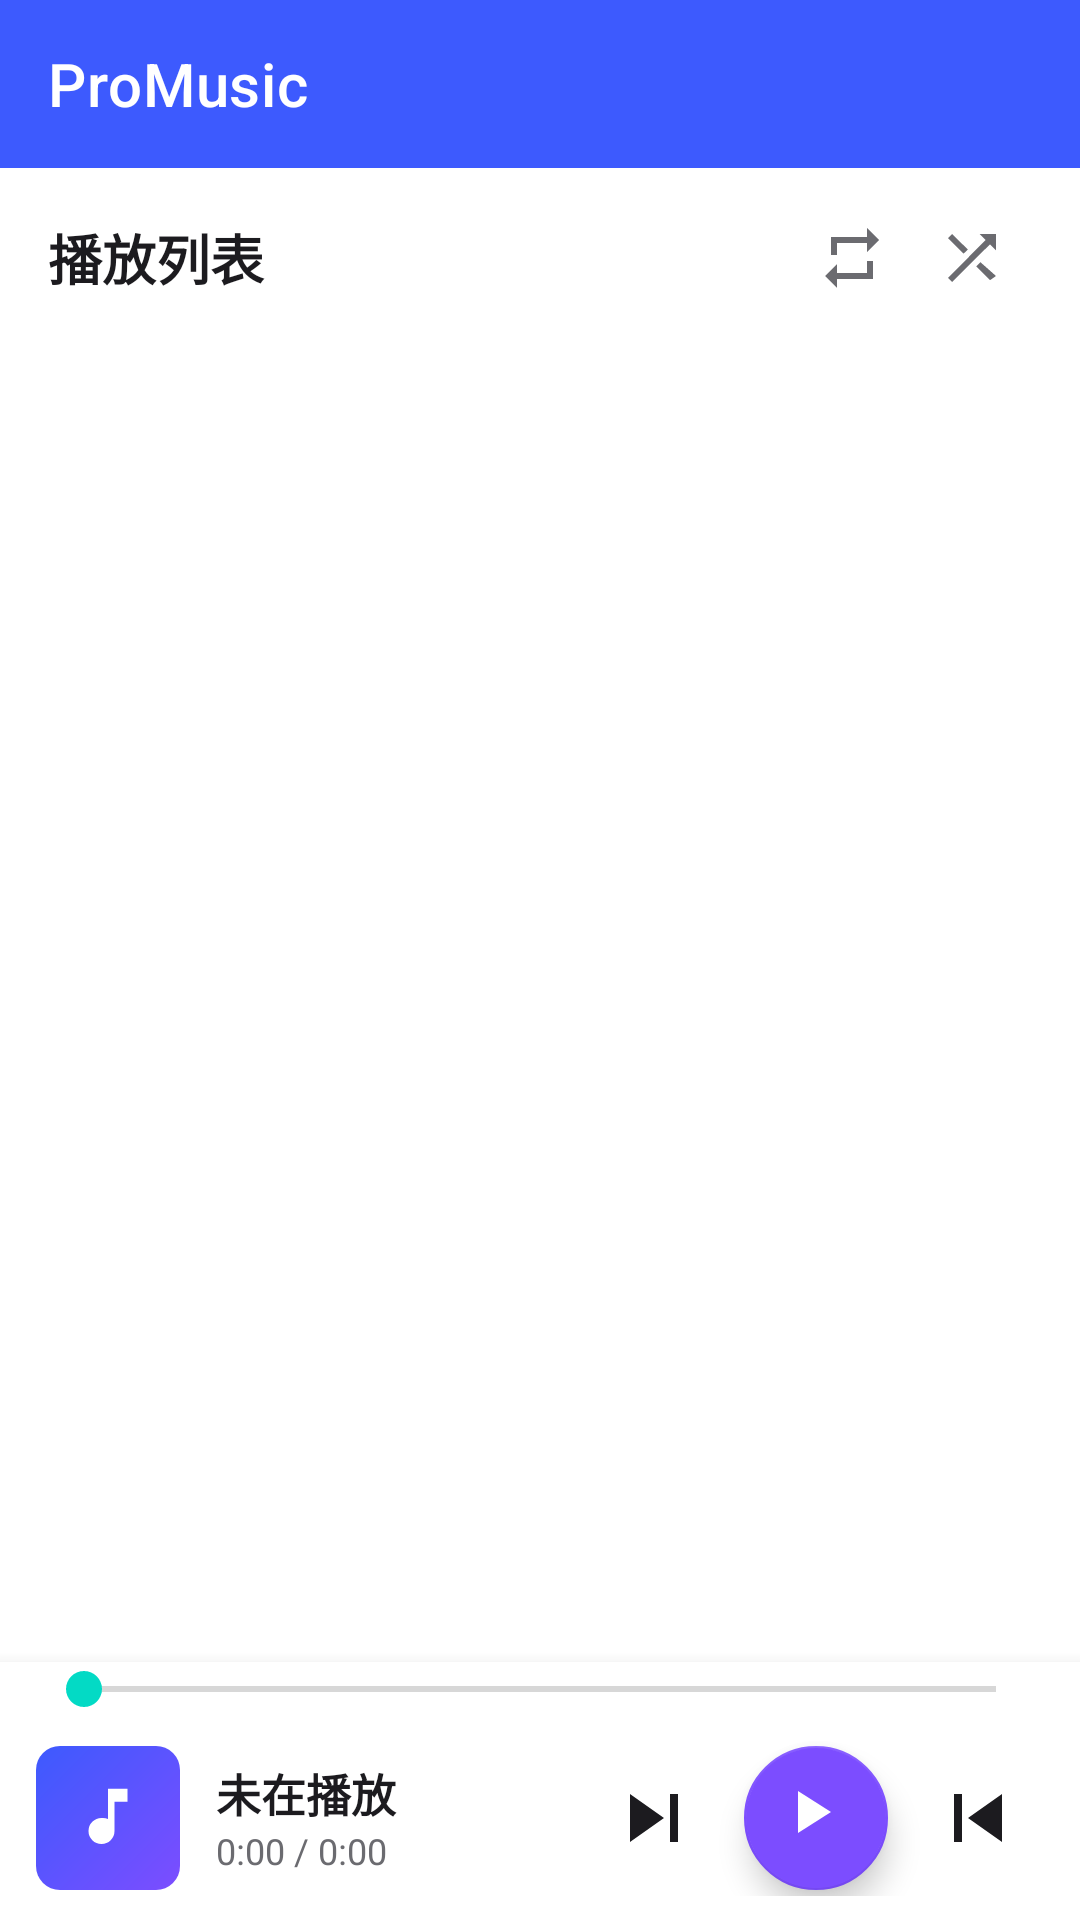

Where to tap for icons on this 1080x1920 app screen, as (x=x, y=y):
music note: (x=108, y=1816)
循环模式: (x=852, y=258)
播放: (x=816, y=1821)
随机: (x=972, y=258)
